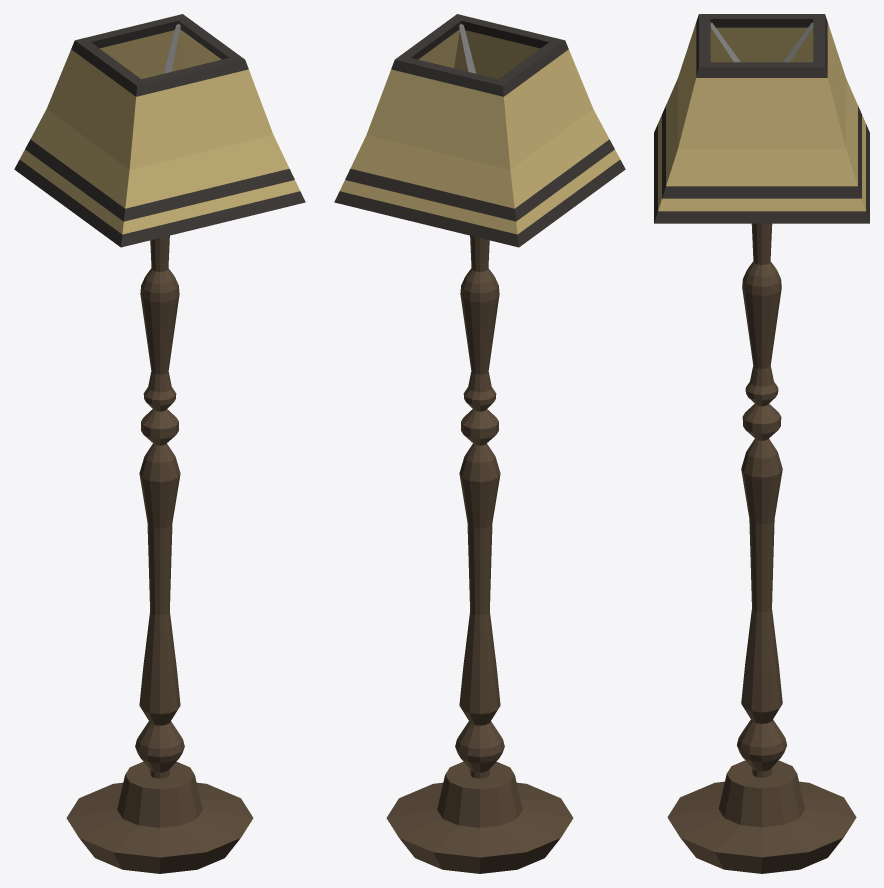
The model's file is SM_Lamp_02.glb.
3 renders of one model, left to right at view 1: azimuth 30°, elevation 25°; view 2: azimuth 150°, elevation 25°; view 3: azimuth 270°, elevation 25°, orthographic.
Visible parts, largest first — view 1: SM_Lamp_02; view 2: SM_Lamp_02; view 3: SM_Lamp_02.
Boxes of the visible parts, x1,y1,x2,y2 form: SM_Lamp_02: (14, 14, 305, 873); SM_Lamp_02: (334, 14, 625, 873); SM_Lamp_02: (654, 14, 869, 873).
Bounding box in the file's own units: 0.4671 × 1.91 × 0.4671.
Materials: 1 (1 with a texture image).
